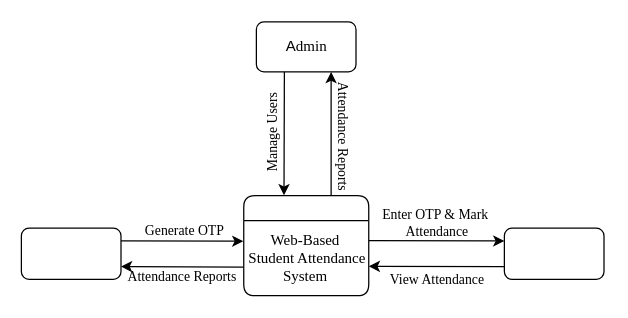
Some shapes in this 628 by 318 pixel diagram are drawn without their labels. The centre of each missing label's shape, as x and y in pixels:
Student: the point at 553,253
Teacher: the point at 70,253
